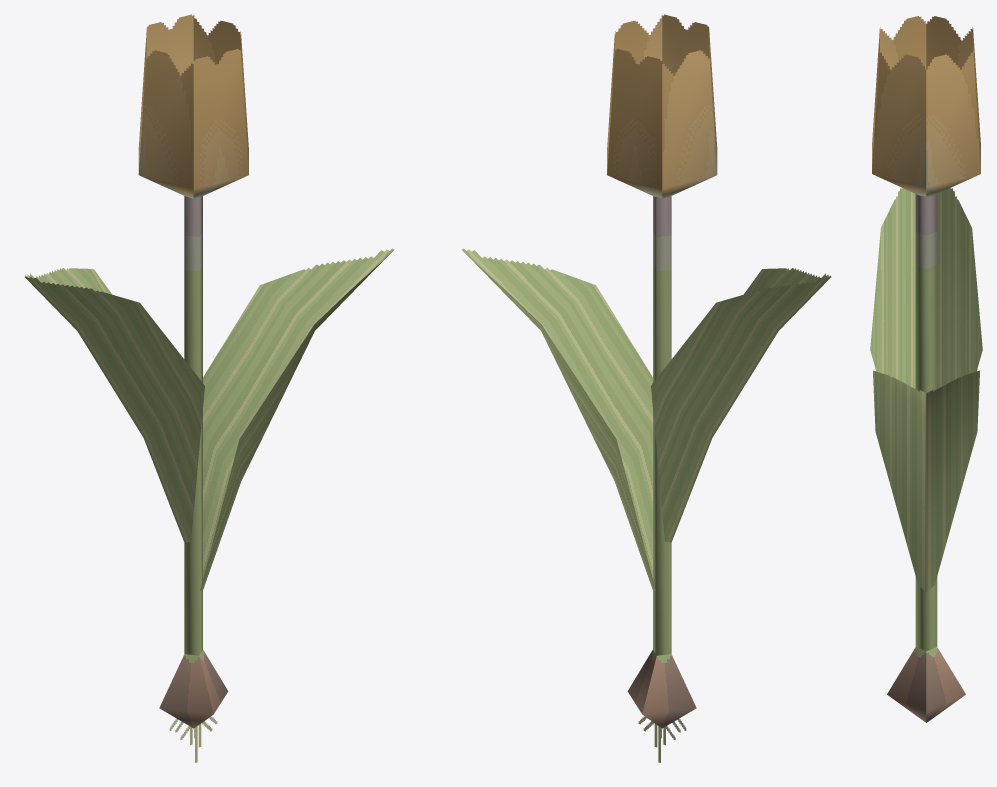
Rendered from 04c6_Yellow_Tulip.glb.
3 views of the same model, side by side, from view 1: azimuth 30°, elevation 25°; view 2: azimuth 150°, elevation 25°; view 3: azimuth 270°, elevation 25° (orthographic).
Parts seen in each view (by area): view 1: part_0; view 2: part_0; view 3: part_0.
Boxes of the visible parts, bbox=[...] form: part_0: bbox=[24, 14, 393, 762]; part_0: bbox=[462, 14, 831, 762]; part_0: bbox=[870, 16, 982, 722].
Bounding box in the file's own units: 0.2177 × 0.38 × 0.0535.
1 material, 1 textured.
